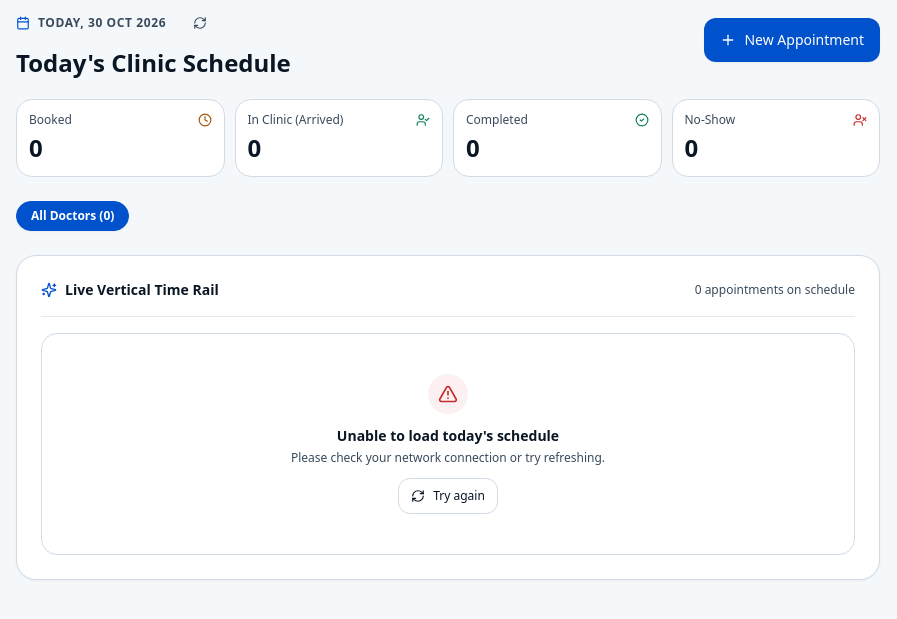
Test case: Group B: Issue 4 - Today Screen Quality & Robustness › 3. Error State: renders error card with Try again button that refetches
expect the element with test id "error-card" is shown: met, box [41,333,855,555]
expect the text "Unable to load today's schedule" is shown: met, box [337,426,559,445]
Click the button "Try again": (448, 496) [398,478,498,514]
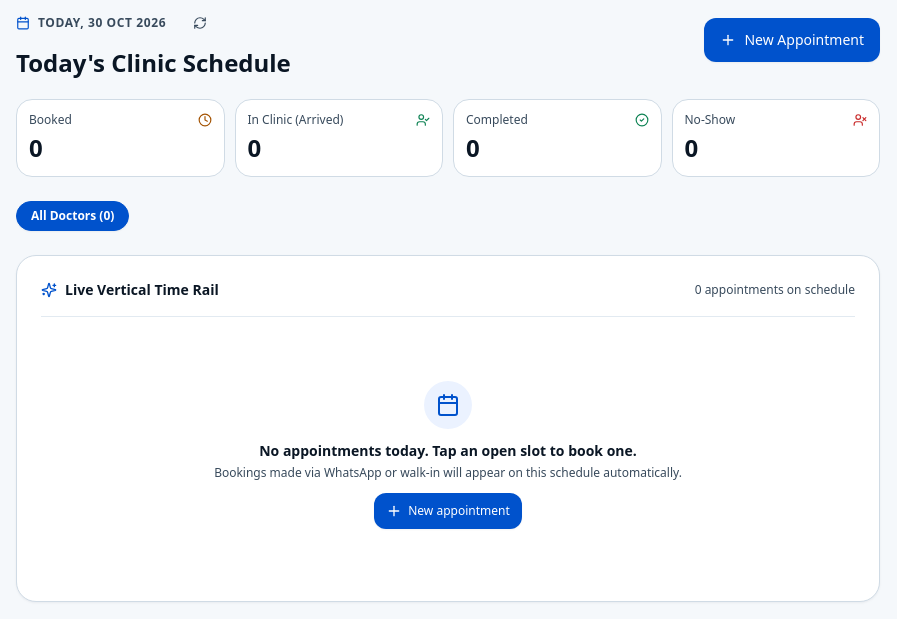
expect the element with test id "empty-schedule-card" is shown: met, box [214,381,682,529]
